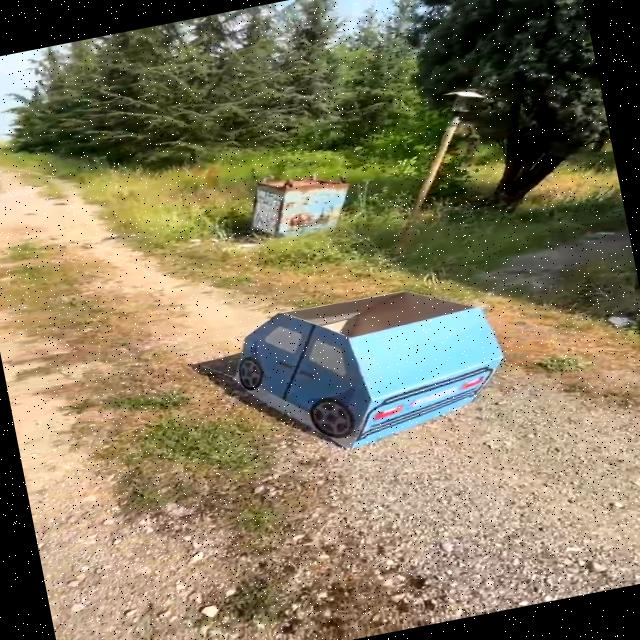blue_car: (208, 256, 528, 482)
